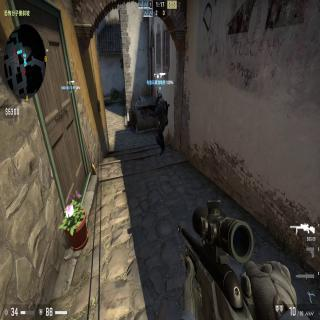CT-Body: (148, 92, 169, 156)
CT-Head: (156, 93, 162, 101)
